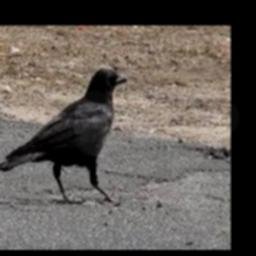Crow: (0, 68, 127, 206)
